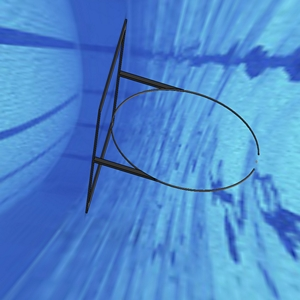circle: (81, 15, 260, 211)
